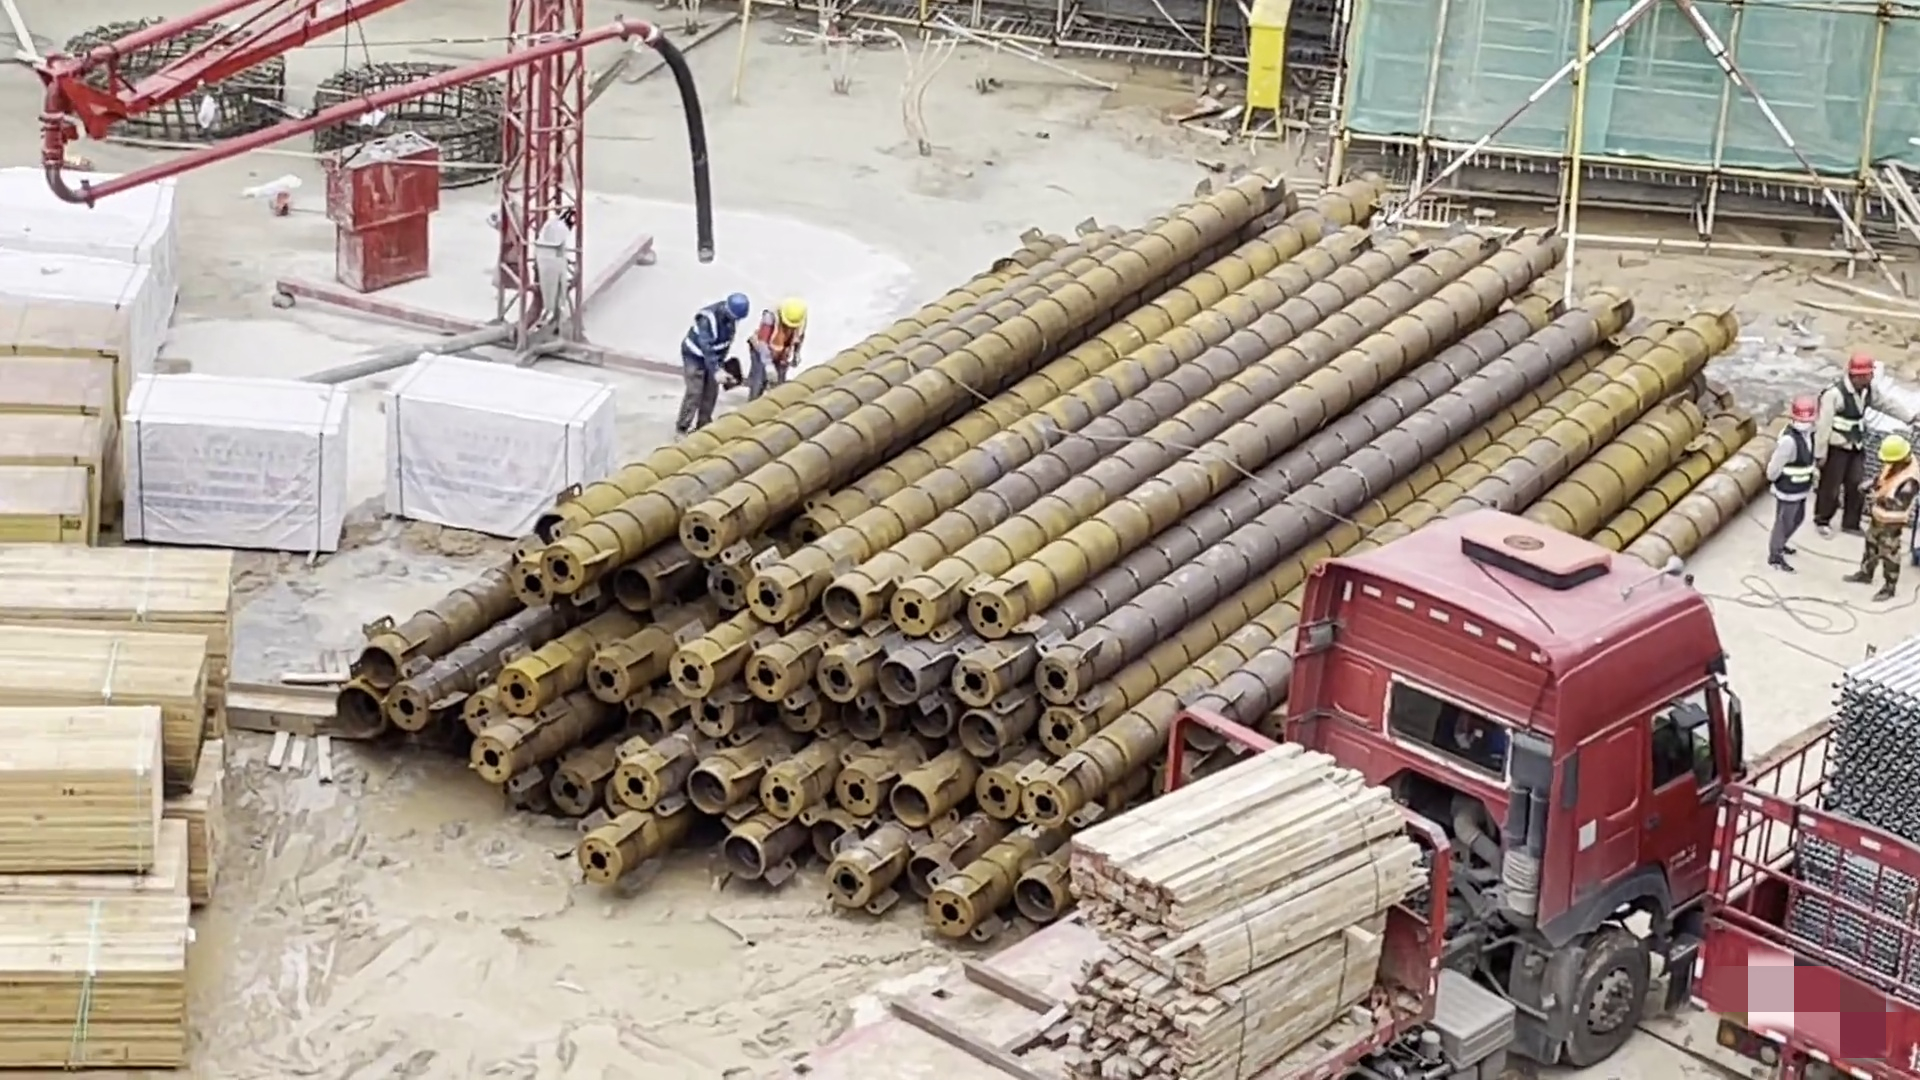ebox: (1244, 1, 1281, 124)
helmet: (773, 293, 812, 327), (724, 287, 762, 320), (1786, 393, 1818, 425), (1847, 351, 1880, 381), (1879, 434, 1910, 458)
person: (1816, 348, 1882, 541), (1851, 428, 1920, 601), (1762, 391, 1818, 582), (675, 288, 741, 433), (747, 300, 821, 395)
scaffold: (1070, 754, 1420, 953), (1039, 925, 1407, 1080), (1815, 637, 1920, 934)
vest: (1869, 455, 1919, 541), (672, 302, 740, 365), (1820, 381, 1873, 449), (1776, 432, 1825, 502), (760, 315, 812, 378)
wood: (1, 869, 194, 1064), (1, 627, 220, 779), (1, 550, 236, 679), (1, 713, 181, 857), (155, 735, 238, 898), (1, 350, 134, 421), (1, 470, 111, 546), (1, 419, 118, 467)
